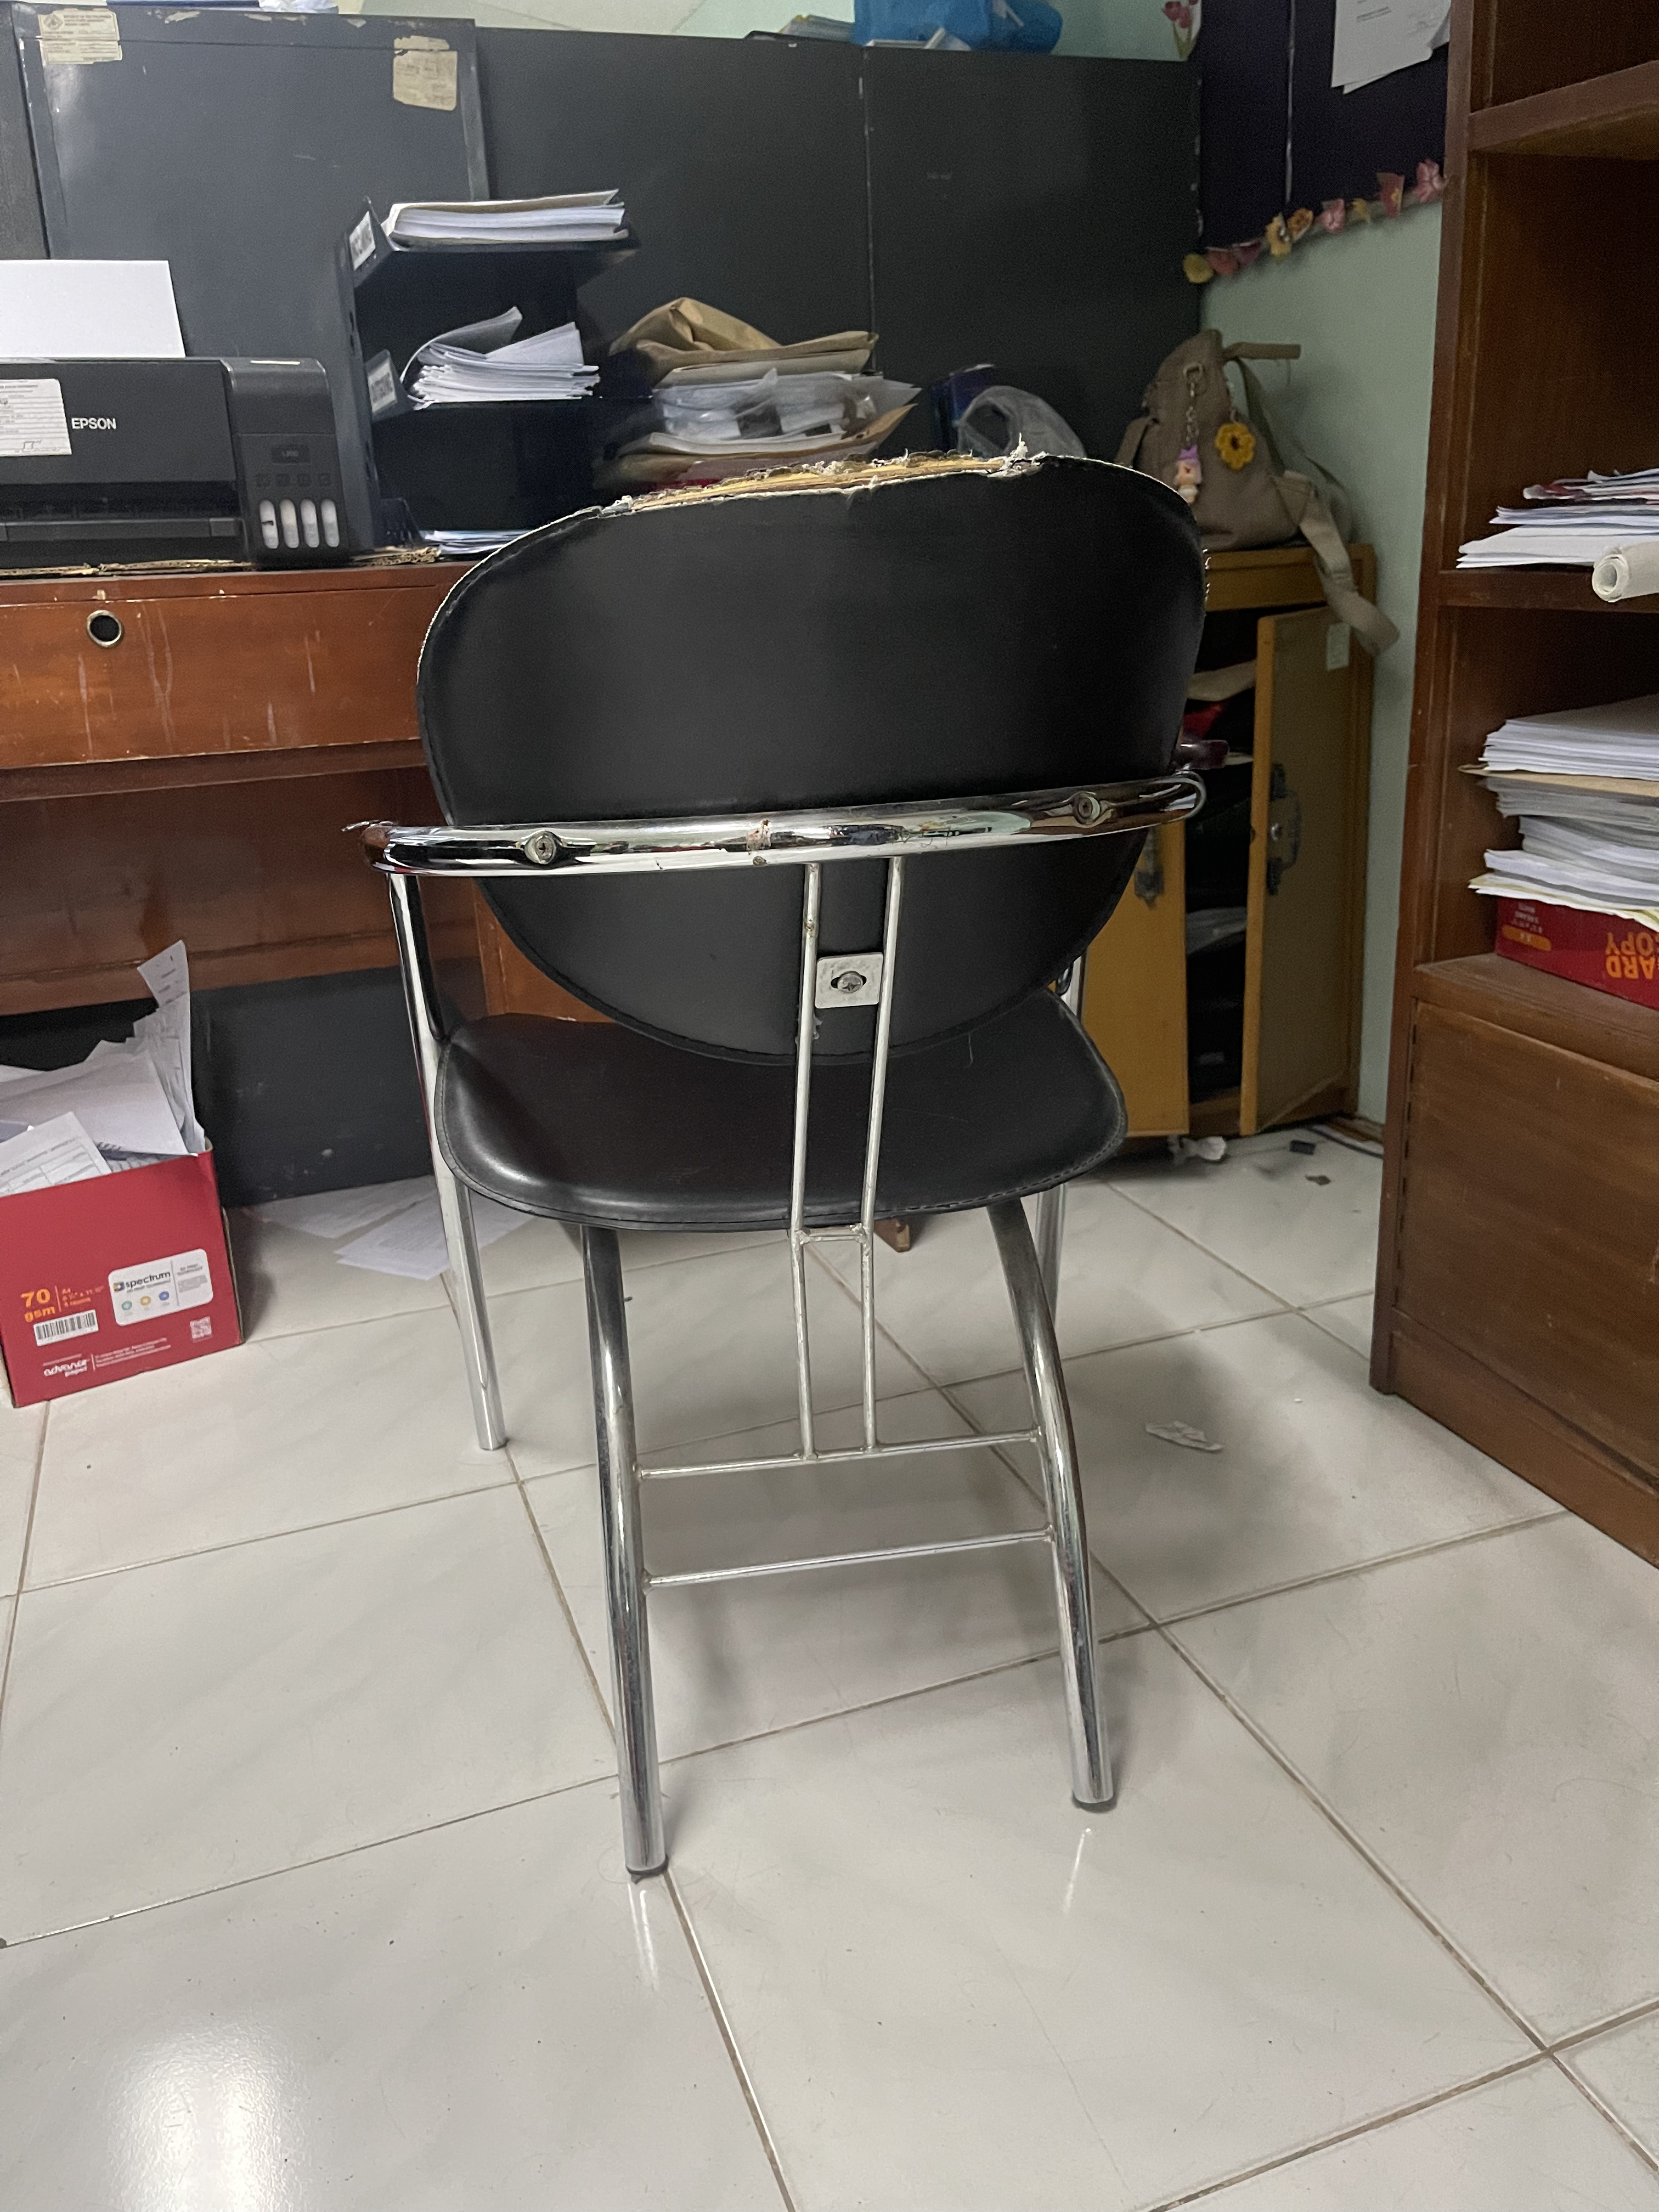chair1: (338, 442, 1223, 1890)
